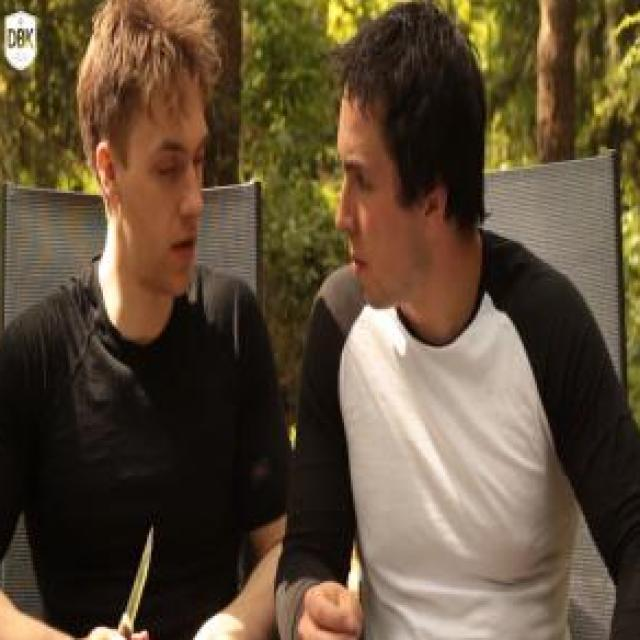knife: (96, 513, 164, 640)
